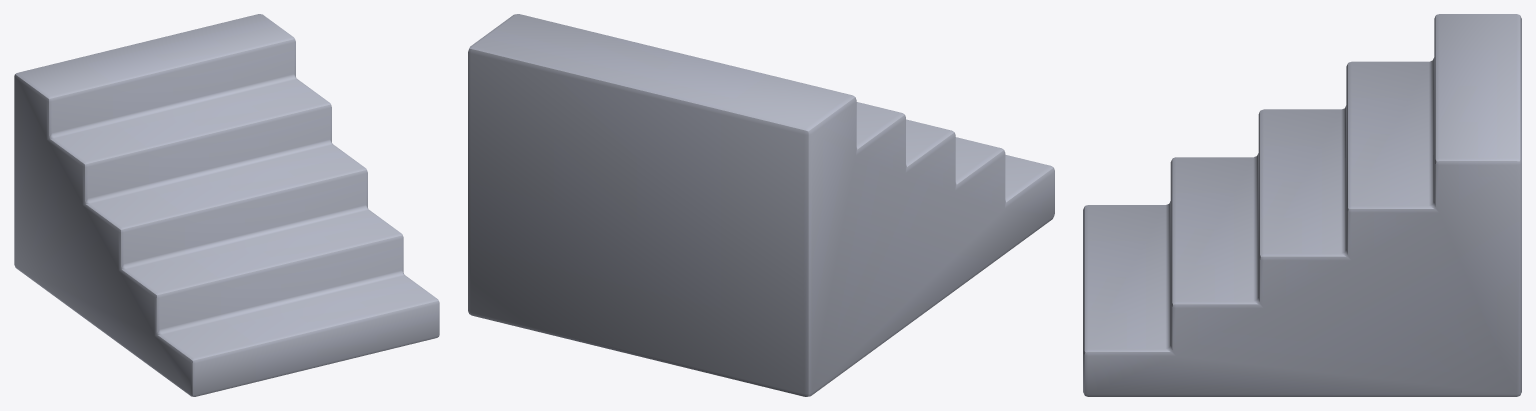
File: stairs.glb
The picture shows the model from 3 angles, left to right: view 1: azimuth 30°, elevation 25°; view 2: azimuth 150°, elevation 25°; view 3: azimuth 270°, elevation 25°; orthographic projection. The views are drawn at different scales.
Visible parts, largest first — view 1: prop; view 2: prop; view 3: prop.
Boxes of the visible parts, x1,y1,x2,y2 form: prop: (14,14,439,396); prop: (468,14,1054,396); prop: (1083,14,1521,396).
Size of the model in its own units: 2 by 1.5 by 2.5.
1 material, 1 textured.
